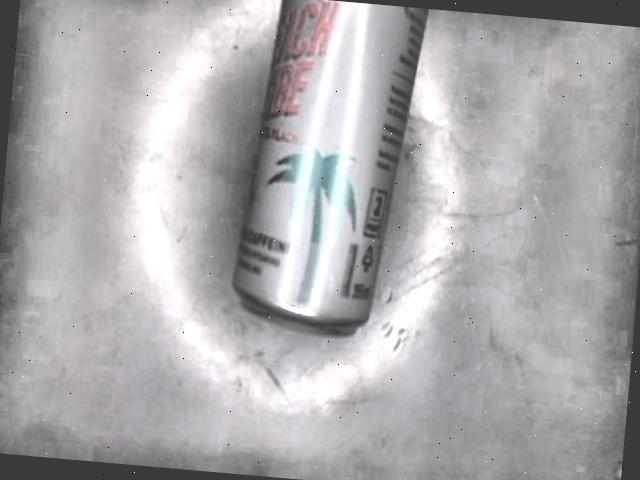Bottles: (231, 0, 432, 338)
